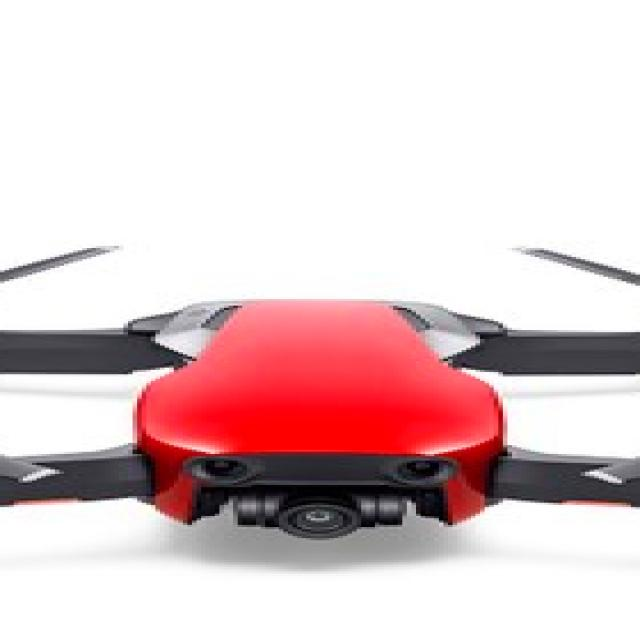drone: (0, 222, 640, 602)
